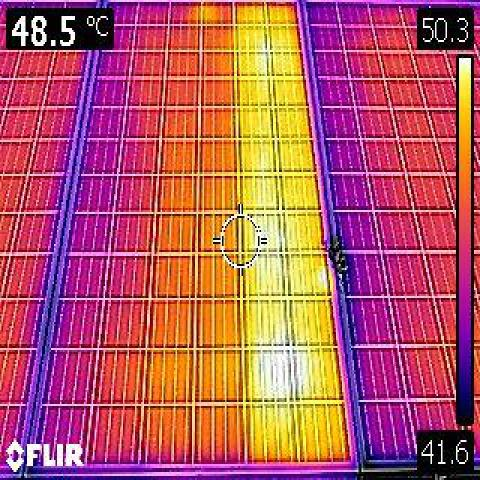fault: (250, 270, 338, 454), (236, 1, 314, 202)
